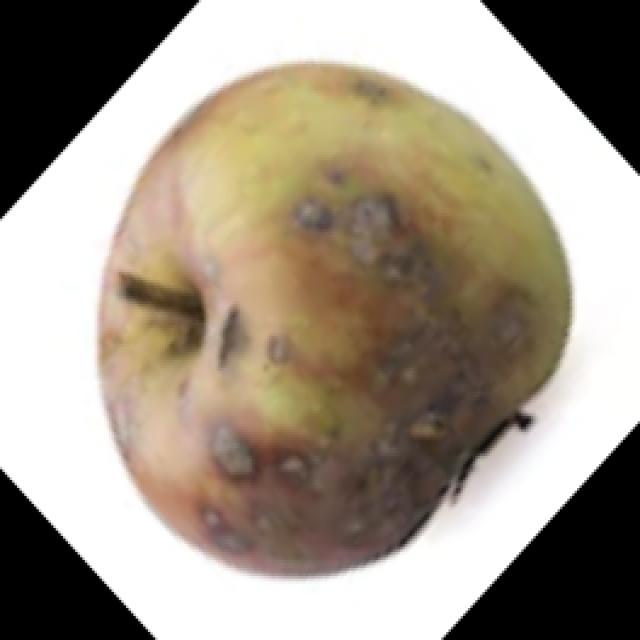Rotten: (96, 68, 582, 582)
